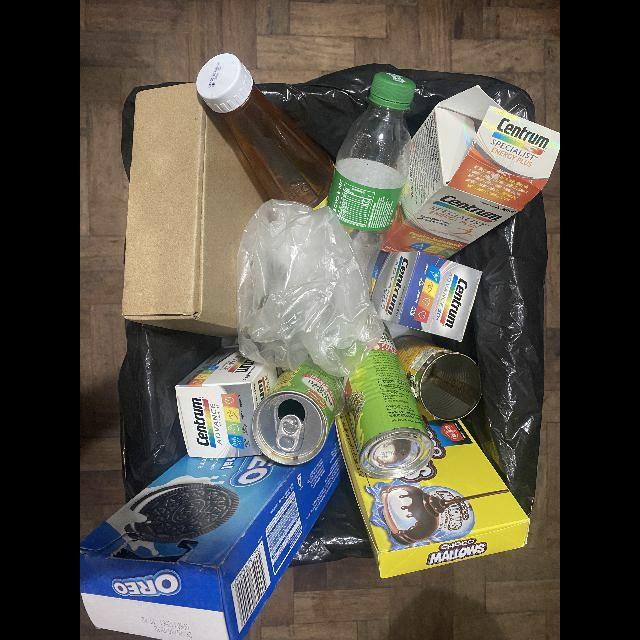aluminum: (344, 332, 434, 480), (252, 364, 338, 466), (393, 336, 482, 421)
cardboard: (80, 423, 343, 640), (122, 84, 263, 338), (335, 399, 531, 580), (382, 86, 560, 258), (175, 348, 283, 458), (370, 252, 482, 342)
glass_bottle: (197, 54, 335, 210)
plastic_bag: (237, 200, 385, 378)
plastic_bottle: (327, 72, 416, 291)
